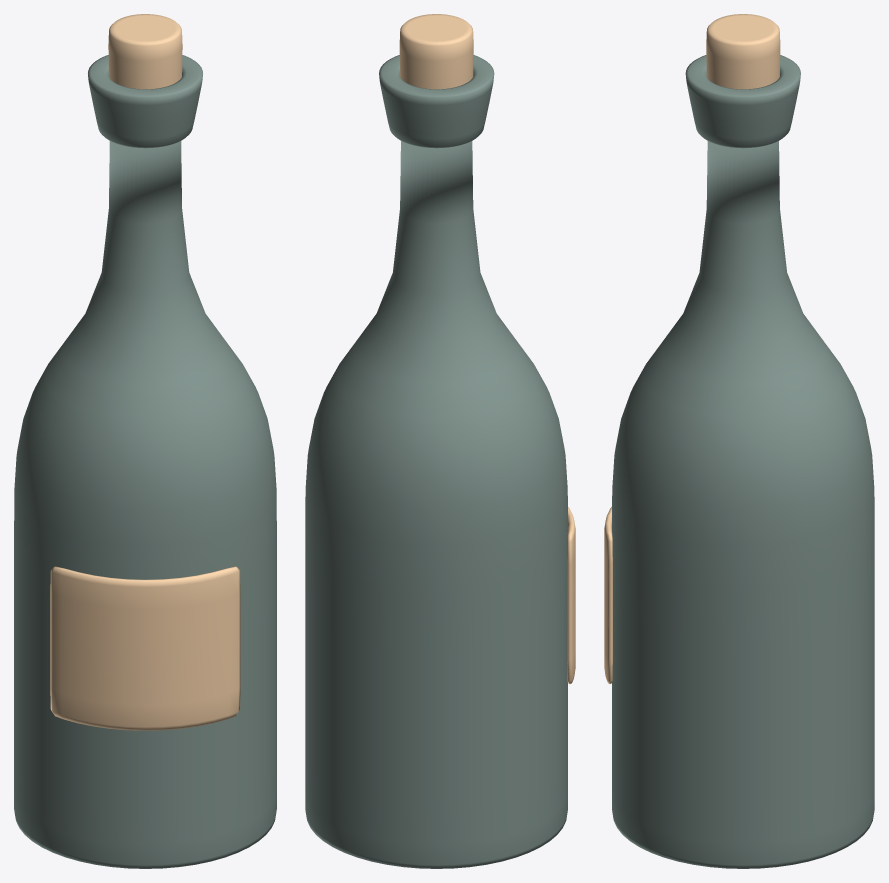
The model's file is bottle.fbx.
3 views of the same model, side by side, from view 1: azimuth 30°, elevation 25°; view 2: azimuth 150°, elevation 25°; view 3: azimuth 270°, elevation 25° (orthographic).
Parts seen in each view (by area): view 1: wine bottle, label, cork; view 2: wine bottle, cork, label; view 3: wine bottle, cork, label.
Boxes of the visible parts, <box> form: wine bottle: <box>14,55,276,868</box>; label: <box>50,566,240,730</box>; cork: <box>108,14,182,89</box>; wine bottle: <box>305,55,567,868</box>; cork: <box>399,14,473,89</box>; label: <box>567,507,575,683</box>; wine bottle: <box>612,55,874,868</box>; cork: <box>706,14,780,89</box>; label: <box>604,507,612,683</box>.
Bounding box in the file's own units: 47.83 × 49.1 × 157.
Materials: 2 (1 with a texture image).
